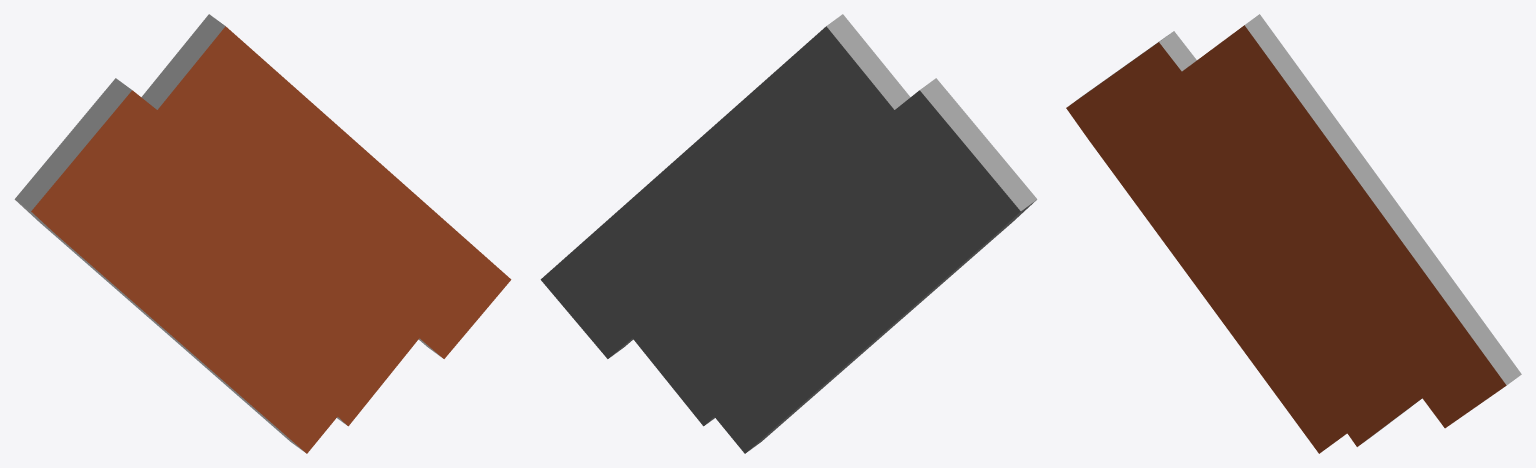
Rendered from construction_0103_assumed_A_Grande_construcao_h6m.obj.
The picture shows the model from 3 angles, left to right: view 1: azimuth 30°, elevation 25°; view 2: azimuth 150°, elevation 25°; view 3: azimuth 330°, elevation 25°; orthographic projection. The views are drawn at different scales.
Parts seen in each view (by area): view 1: construction_0103_assumed_A_Grande_construcao; view 2: construction_0103_assumed_A_Grande_construcao; view 3: construction_0103_assumed_A_Grande_construcao.
Part boxes in pixels (box(x1,y1,x2,y2)): construction_0103_assumed_A_Grande_construcao: box(14, 14, 511, 453); construction_0103_assumed_A_Grande_construcao: box(540, 14, 1037, 453); construction_0103_assumed_A_Grande_construcao: box(1066, 14, 1521, 453).
Size of the model in its own units: 100 by 89.22 by 6.
